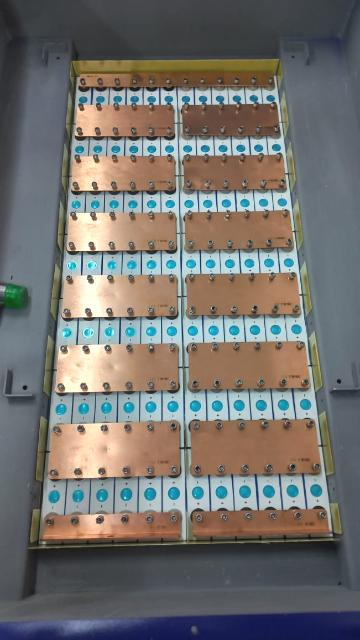busbar: (189, 418, 321, 478), (48, 423, 180, 481), (187, 342, 312, 392), (55, 346, 179, 394), (61, 276, 179, 322), (186, 274, 302, 319), (184, 210, 295, 252), (181, 100, 286, 144), (42, 512, 180, 545), (68, 212, 179, 253), (192, 508, 330, 539), (71, 155, 176, 193), (183, 155, 288, 192), (74, 104, 175, 139), (78, 71, 276, 88)
